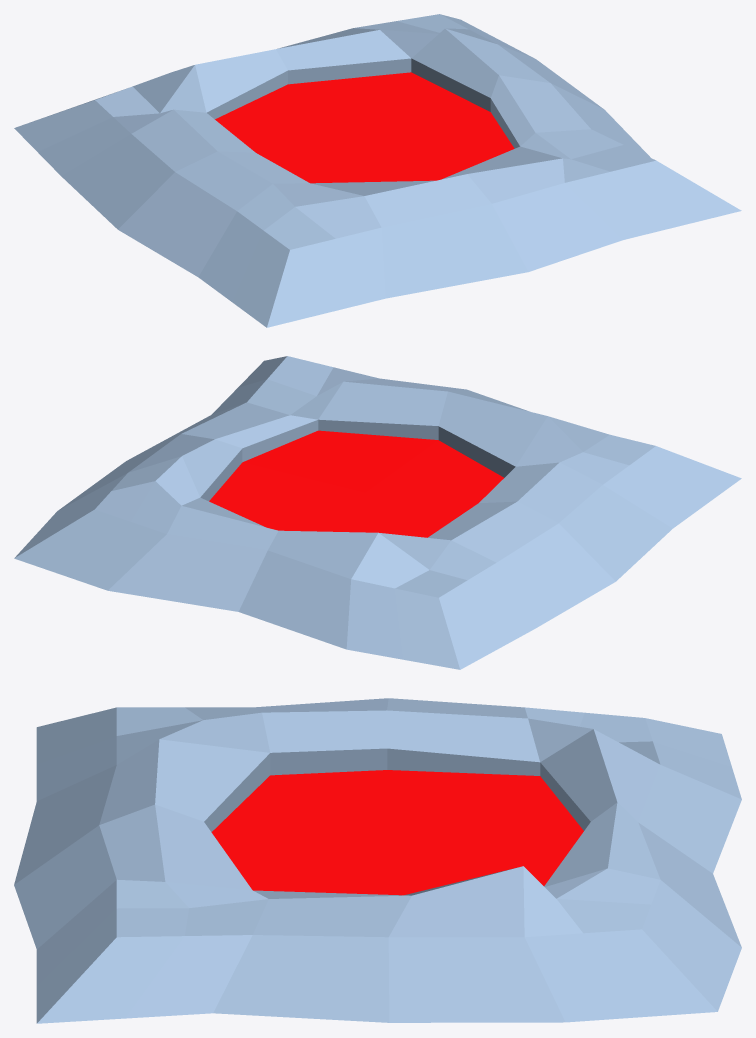
Rendered from Gilded_Pit.glb.
The picture shows the model from 3 angles, top to bottom: view 1: azimuth 30°, elevation 25°; view 2: azimuth 150°, elevation 25°; view 3: azimuth 270°, elevation 25°; orthographic projection. The views are drawn at different scales.
Visible parts, largest first — view 1: Dark Pit; view 2: Dark Pit; view 3: Dark Pit.
Boxes of the visible parts, bbox=[...] form: Dark Pit: bbox=[14, 14, 741, 327]; Dark Pit: bbox=[14, 356, 741, 669]; Dark Pit: bbox=[14, 698, 741, 1023].
Bounding box in the file's own units: 1.77 × 0.248 × 1.79.
